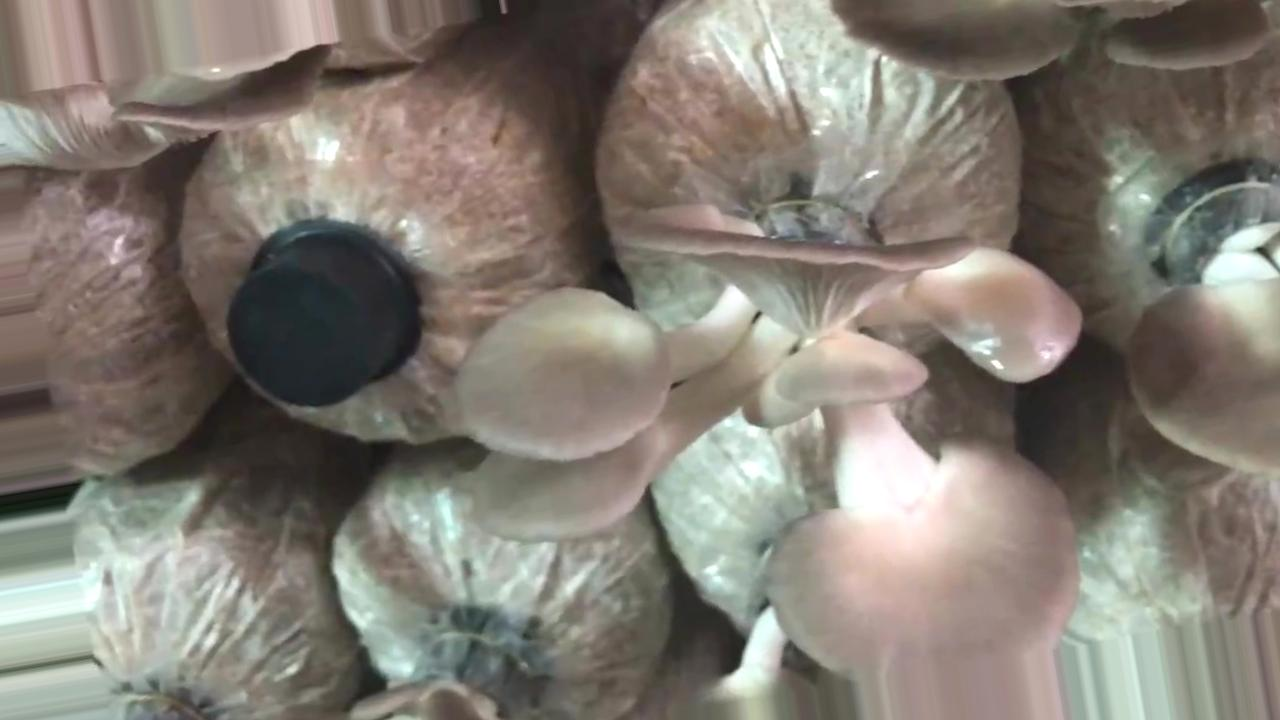nam: (450, 180, 1088, 673), (1117, 155, 1280, 472)
